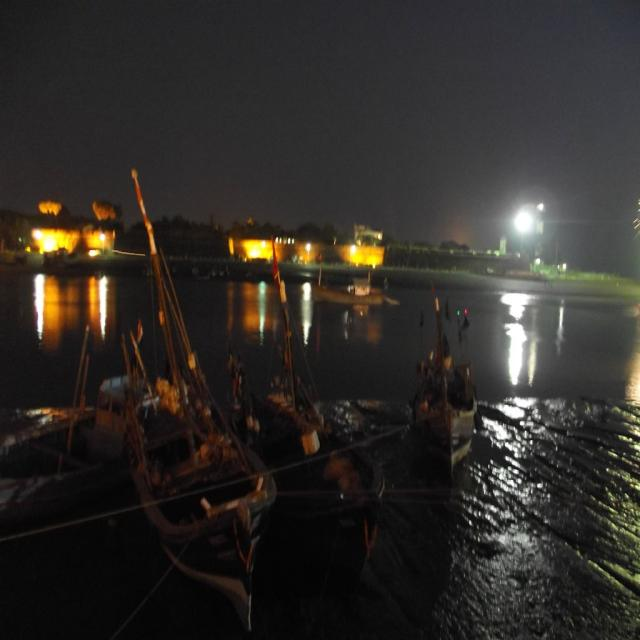Boat: (0, 328, 502, 562)
